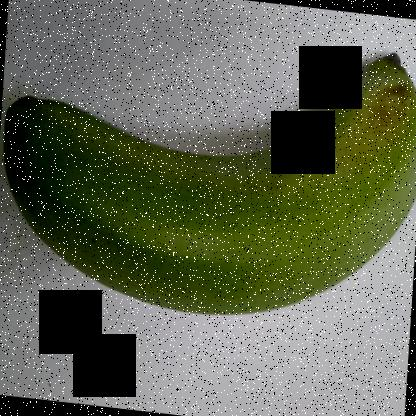freshunripe: (1, 44, 415, 332)
